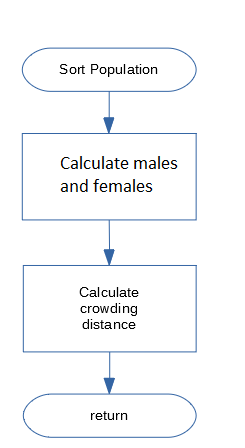arrow: (103, 352, 116, 394), (102, 90, 114, 135), (103, 220, 114, 264)
process: (18, 130, 200, 222), (20, 262, 199, 355)
terminator: (21, 44, 199, 95), (21, 391, 199, 440)
text: (59, 152, 179, 196), (77, 284, 140, 331), (57, 61, 159, 76), (87, 410, 128, 422)
